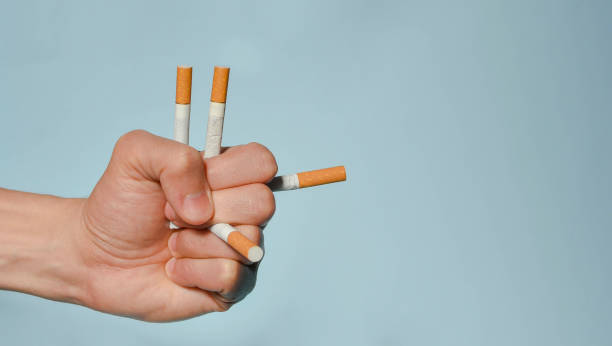cigarette: (203, 64, 231, 160), (207, 223, 264, 263), (267, 165, 347, 193), (174, 62, 193, 146)
